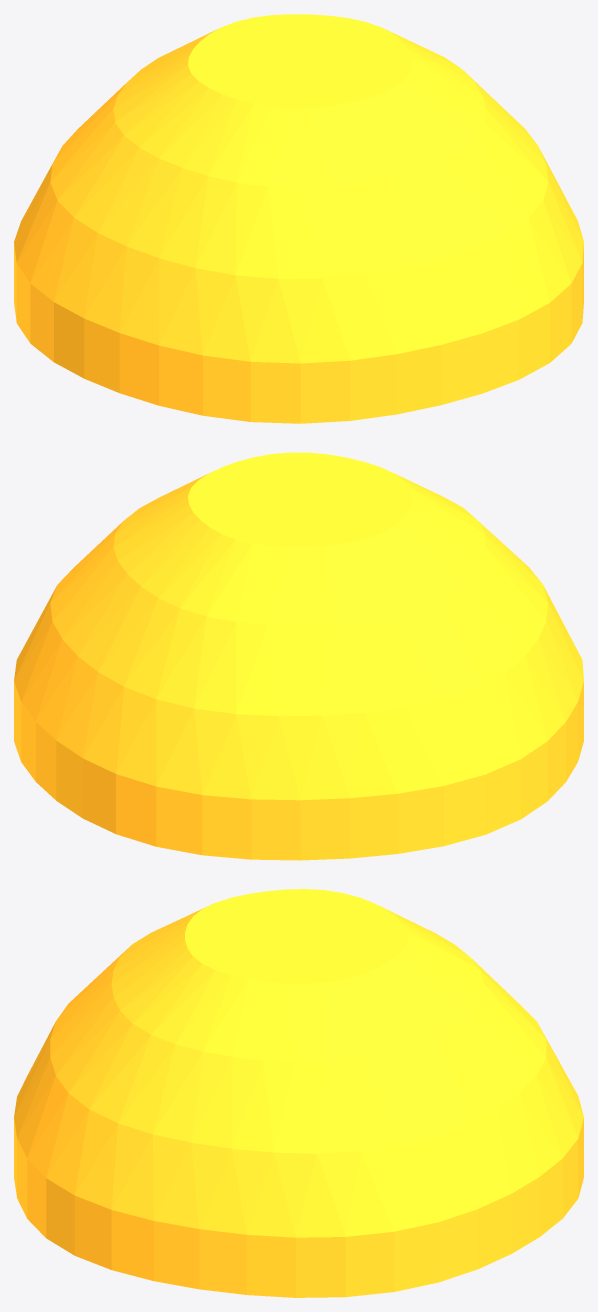
File: special_gem.glb
3 views of the same model, one above another, from view 1: azimuth 30°, elevation 25°; view 2: azimuth 150°, elevation 25°; view 3: azimuth 270°, elevation 25° (orthographic).
Parts seen in each view (by area): view 1: special_gem; view 2: special_gem; view 3: special_gem.
Part boxes in pixels (x1,y1,x2,y2): special_gem: [14, 14, 583, 423]; special_gem: [14, 452, 583, 860]; special_gem: [14, 889, 583, 1297].
Size of the model in its own units: 0.6 by 0.28 by 0.6.
